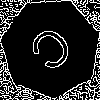C: (25, 23, 83, 82)
